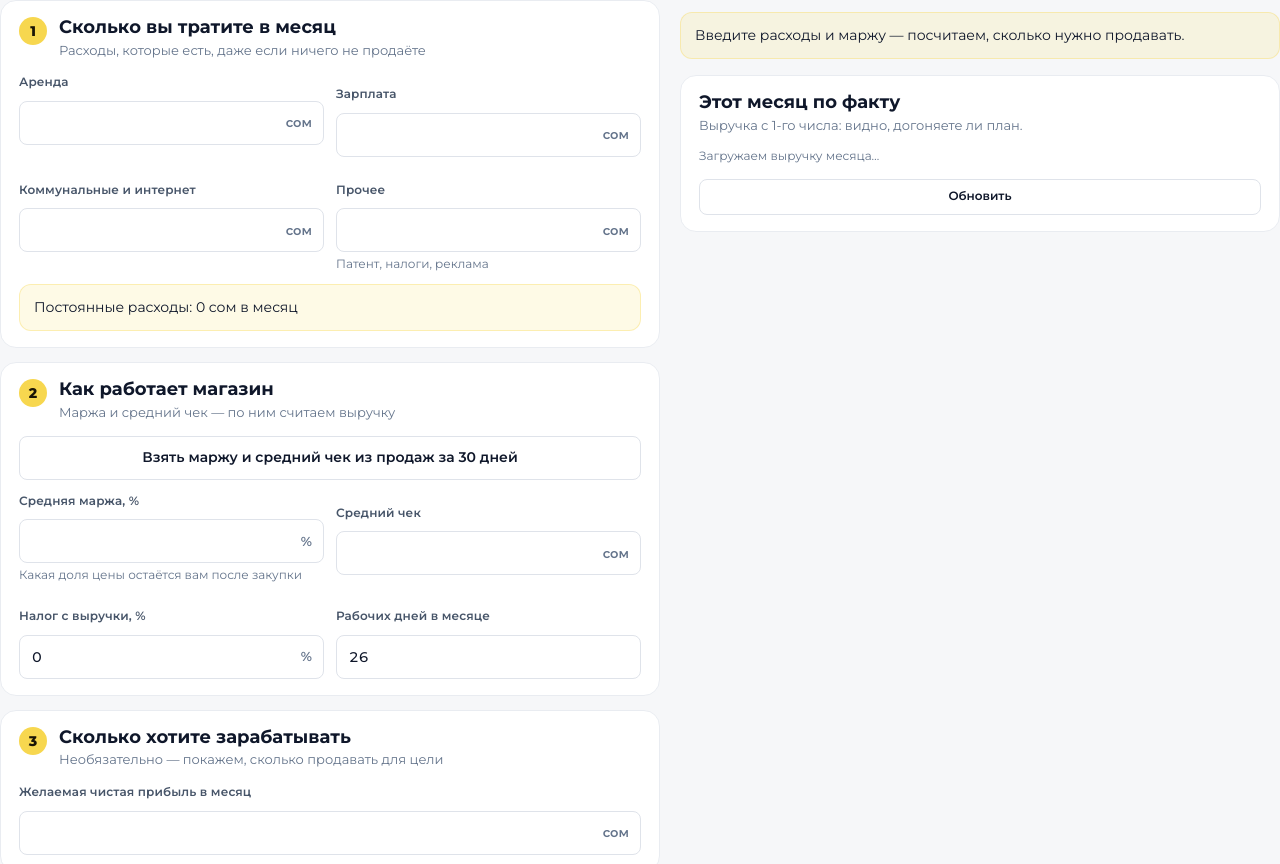
Test: «Безубыточность» › нет продаж: выручка «0.00», маржа null — «нет продаж», а не 0 %
Click the button "Взять маржу и средний чек из продаж за 30 дней" at (330,458), box [19, 436, 641, 480]
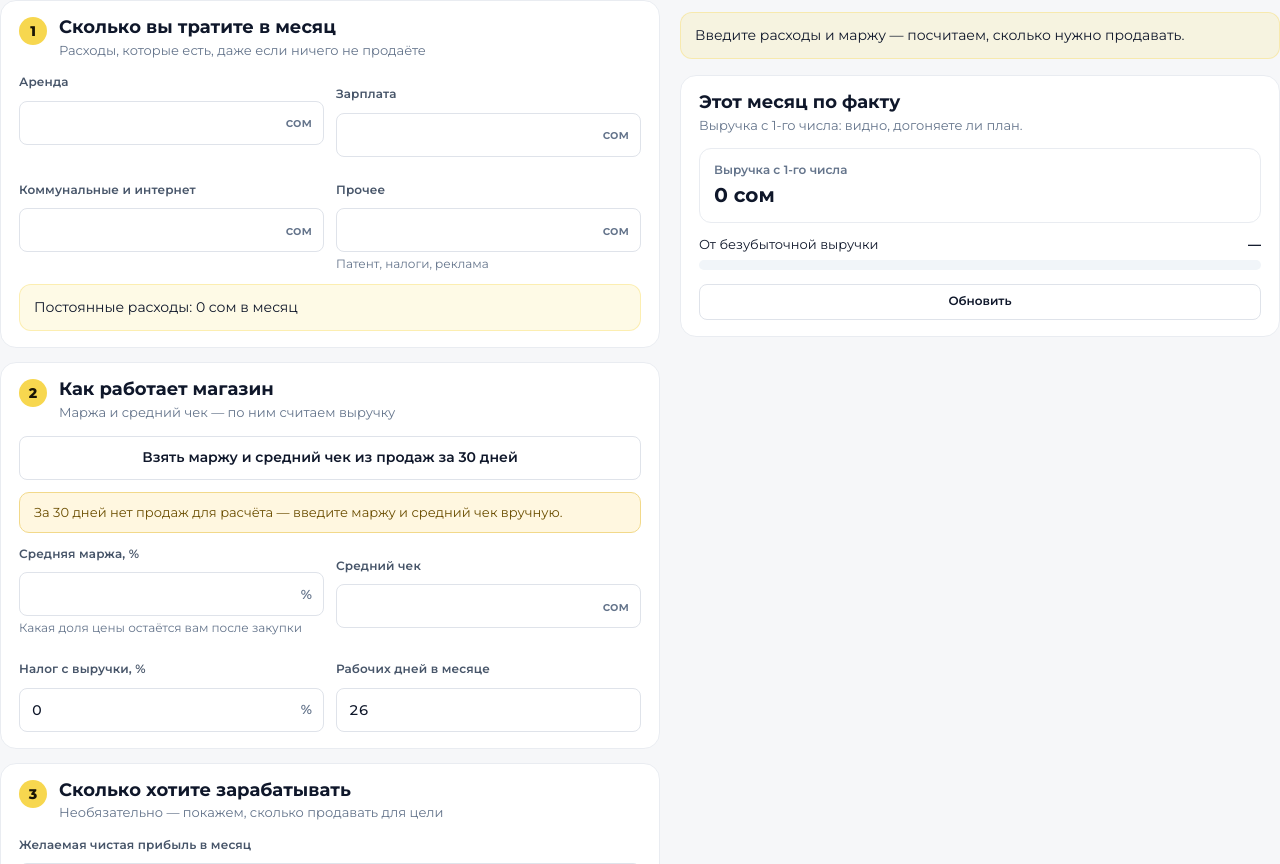
Expected: the field labelled "Средняя маржа, %" is empty, [19, 572, 324, 616]
Expected: the text "За 30 дней нет продаж для расчёта — введите маржу и средний чек вручную." is shown, [19, 492, 641, 533]
